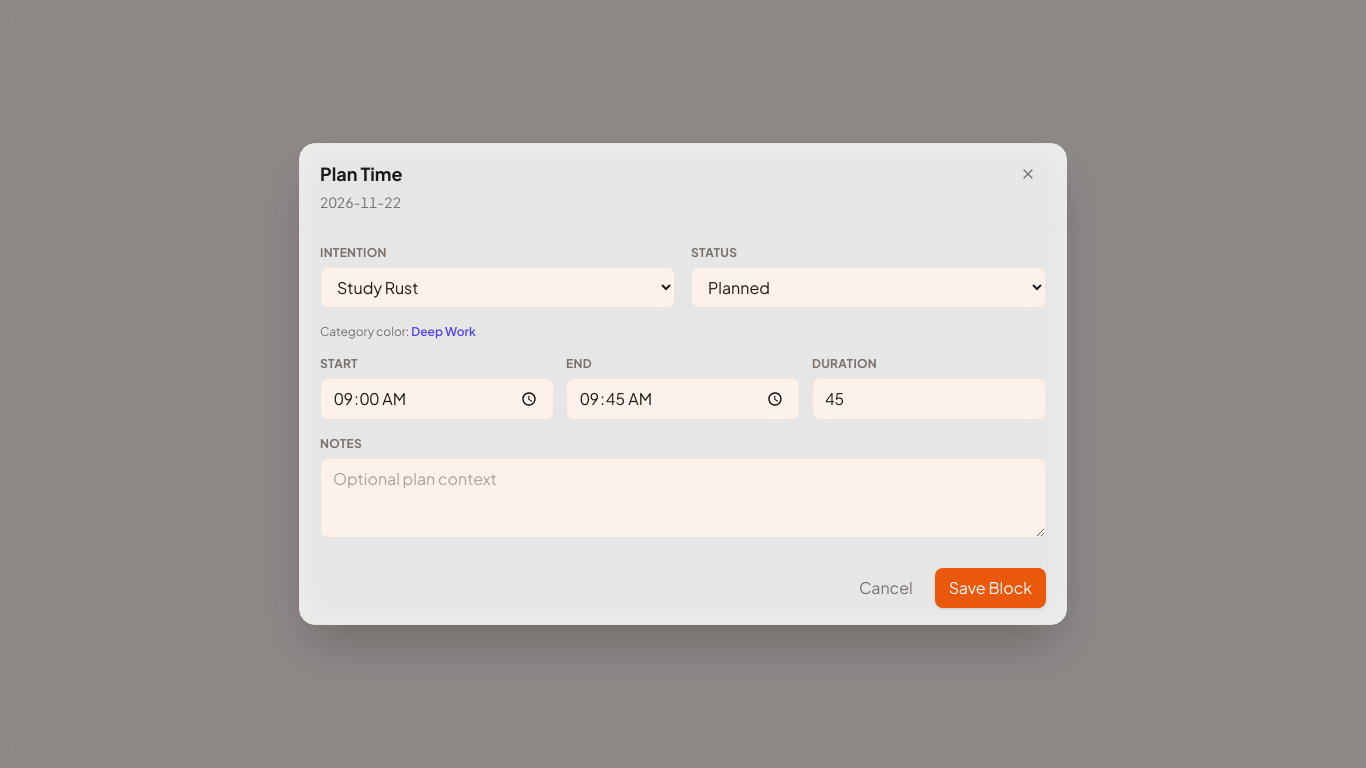
ScheduleBlockFormModal › keeps duration in sync when end time changes
Step 1. Replace the text in the time field labelled "End" with "11:30" → x=683, y=399, box [566, 378, 800, 420]
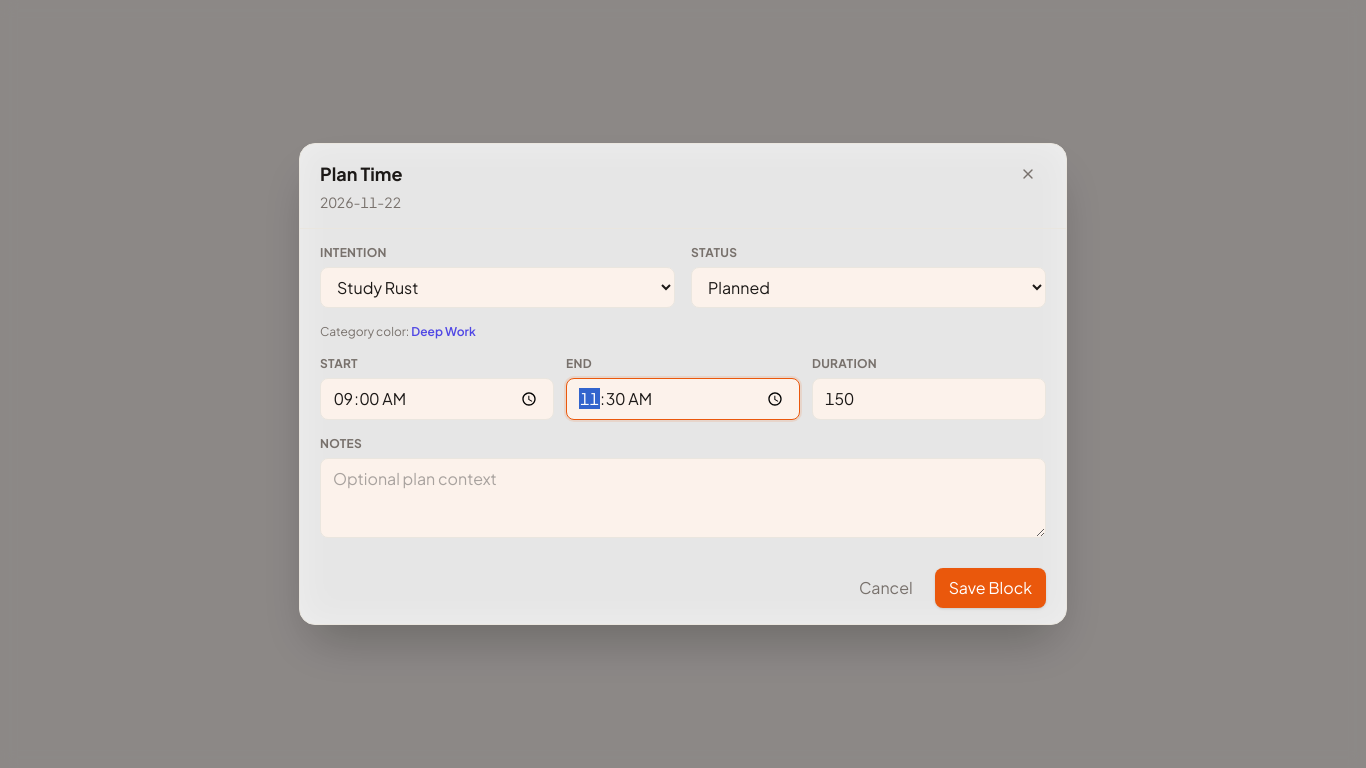
Check: the number field labelled "Duration" holds "150", box [812, 378, 1046, 420]
